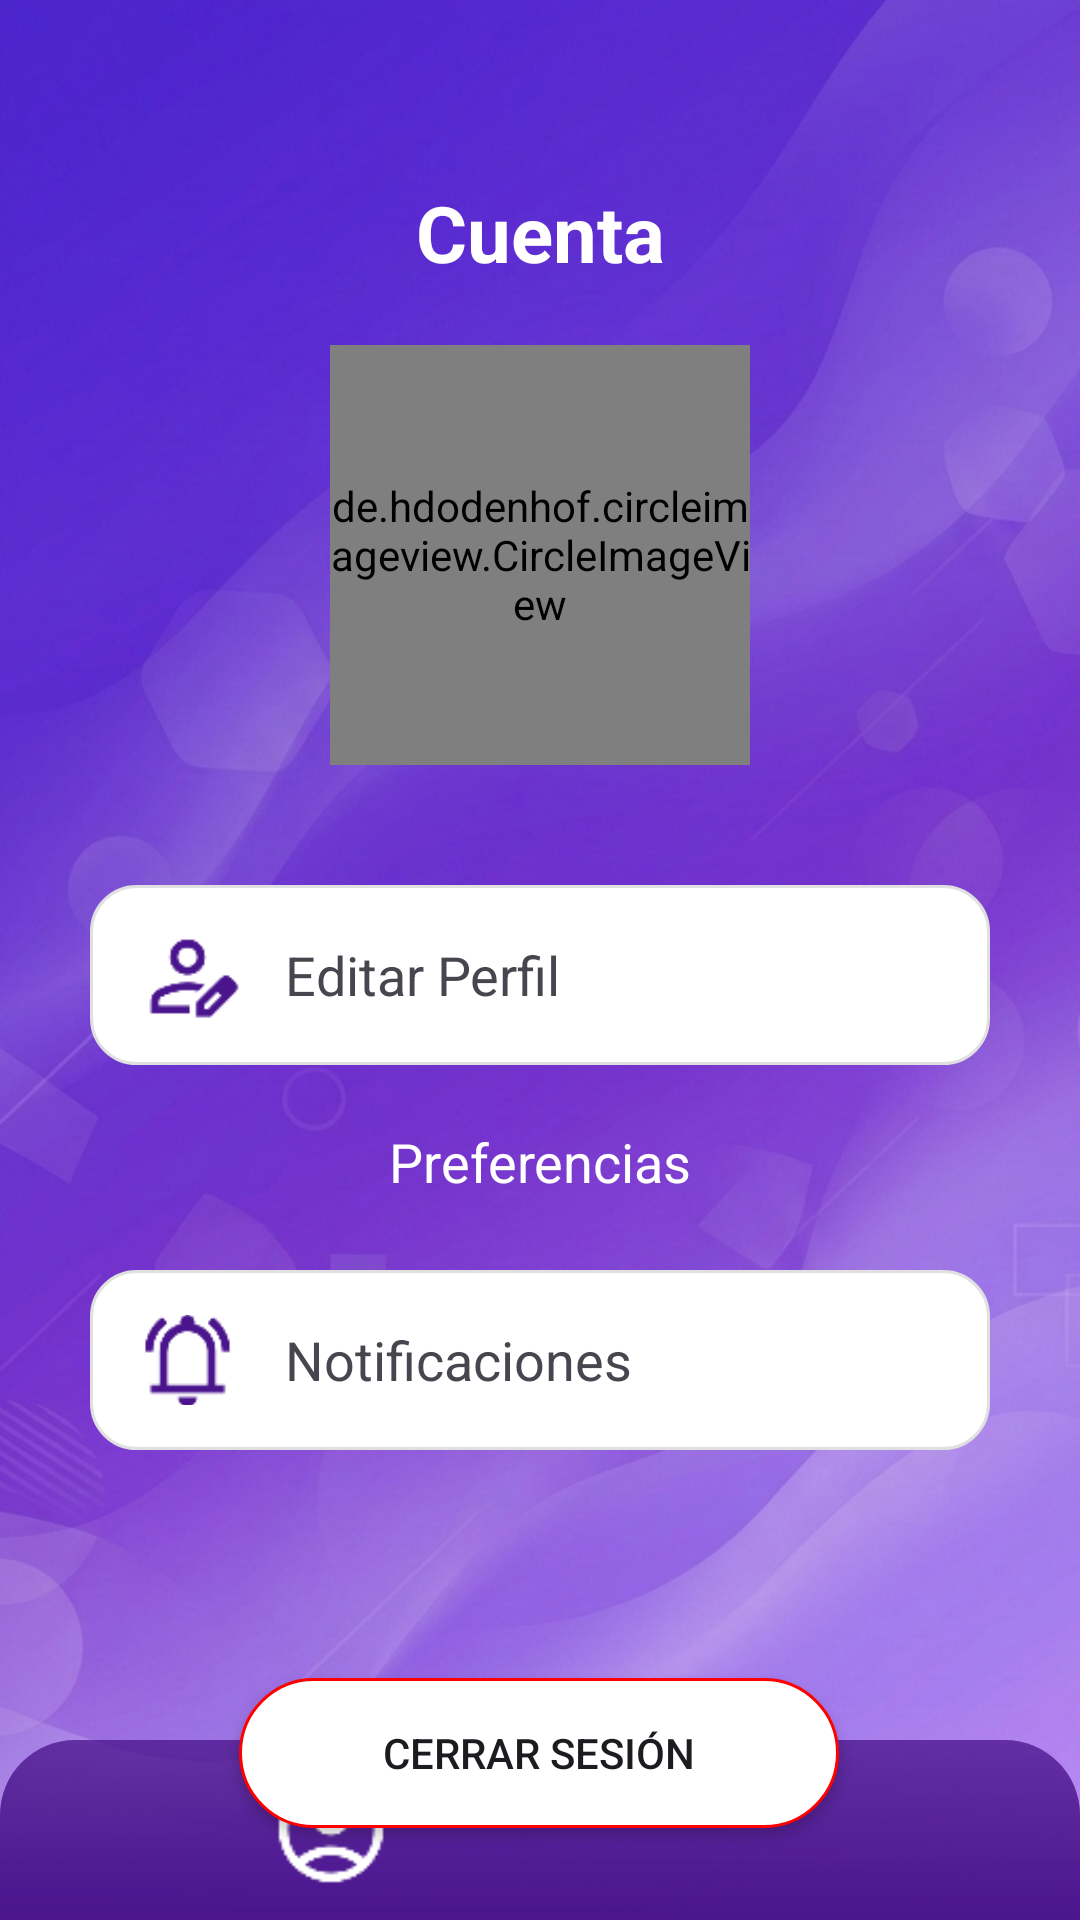

Screen size 1080×1920. Icon name, then its box in pixels as (x1, y1, x2, y2):
edituser md: (149, 939, 239, 1018)
notificacion md: (145, 1315, 230, 1405)
